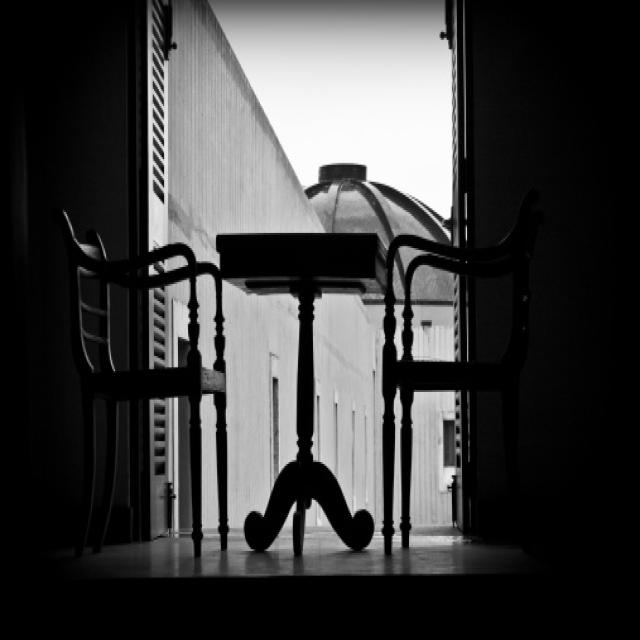Table: (194, 191, 410, 571)
chair: (381, 168, 567, 575), (48, 187, 233, 566)
